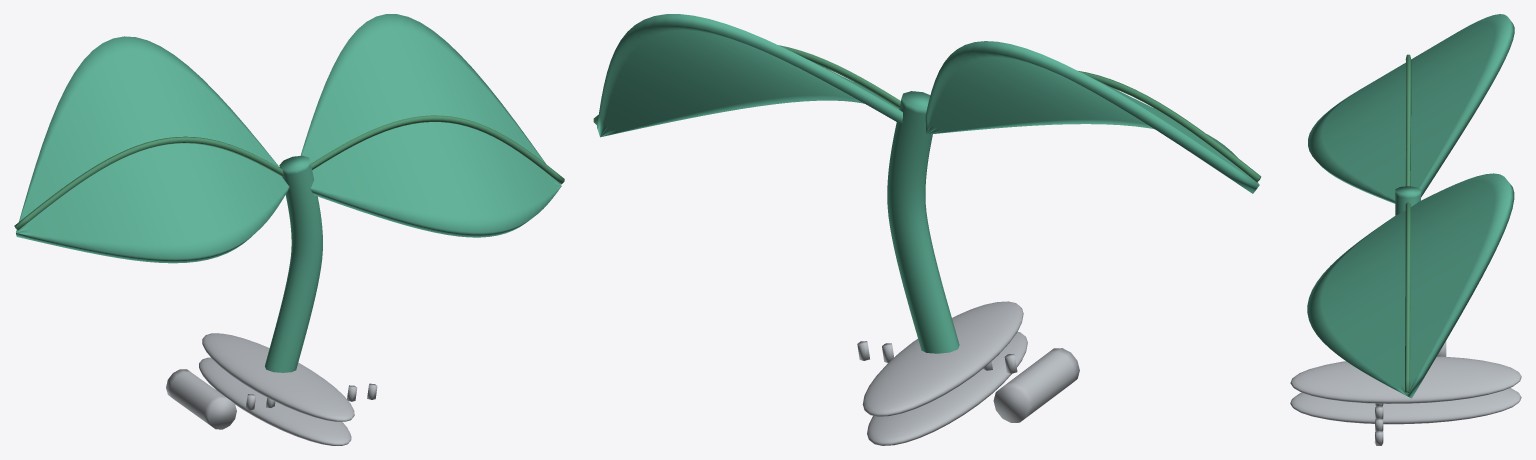
Rendered from Feminine-space-buns--beanie-sprout.glb.
3 renders of one model, left to right at view 1: azimuth 30°, elevation 25°; view 2: azimuth 150°, elevation 25°; view 3: azimuth 270°, elevation 25°, orthographic. The views are drawn at different scales.
Parts seen in each view (by area): view 1: 226 extra / Accessory / mint226, 226 extra / Sprout / clip silver235, 226 extra / Sprout / leaf vein235; view 2: 226 extra / Accessory / mint226, 226 extra / Sprout / clip silver235, 226 extra / Sprout / leaf vein235; view 3: 226 extra / Accessory / mint226, 226 extra / Sprout / clip silver235, 226 extra / Sprout / leaf vein235.
Part boxes in pixels (box(x1,y1,x2,y2)): 226 extra / Accessory / mint226: box(16, 14, 561, 372); 226 extra / Sprout / clip silver235: box(166, 333, 377, 445); 226 extra / Sprout / leaf vein235: box(14, 115, 564, 230); 226 extra / Accessory / mint226: box(597, 14, 1259, 353); 226 extra / Sprout / clip silver235: box(857, 301, 1079, 445); 226 extra / Sprout / leaf vein235: box(593, 45, 1261, 182); 226 extra / Accessory / mint226: box(1307, 14, 1514, 398); 226 extra / Sprout / clip silver235: box(1290, 341, 1521, 445); 226 extra / Sprout / leaf vein235: box(1405, 54, 1411, 393).
Size of the model in its own units: 0.2686 by 0.1685 by 0.1039.
